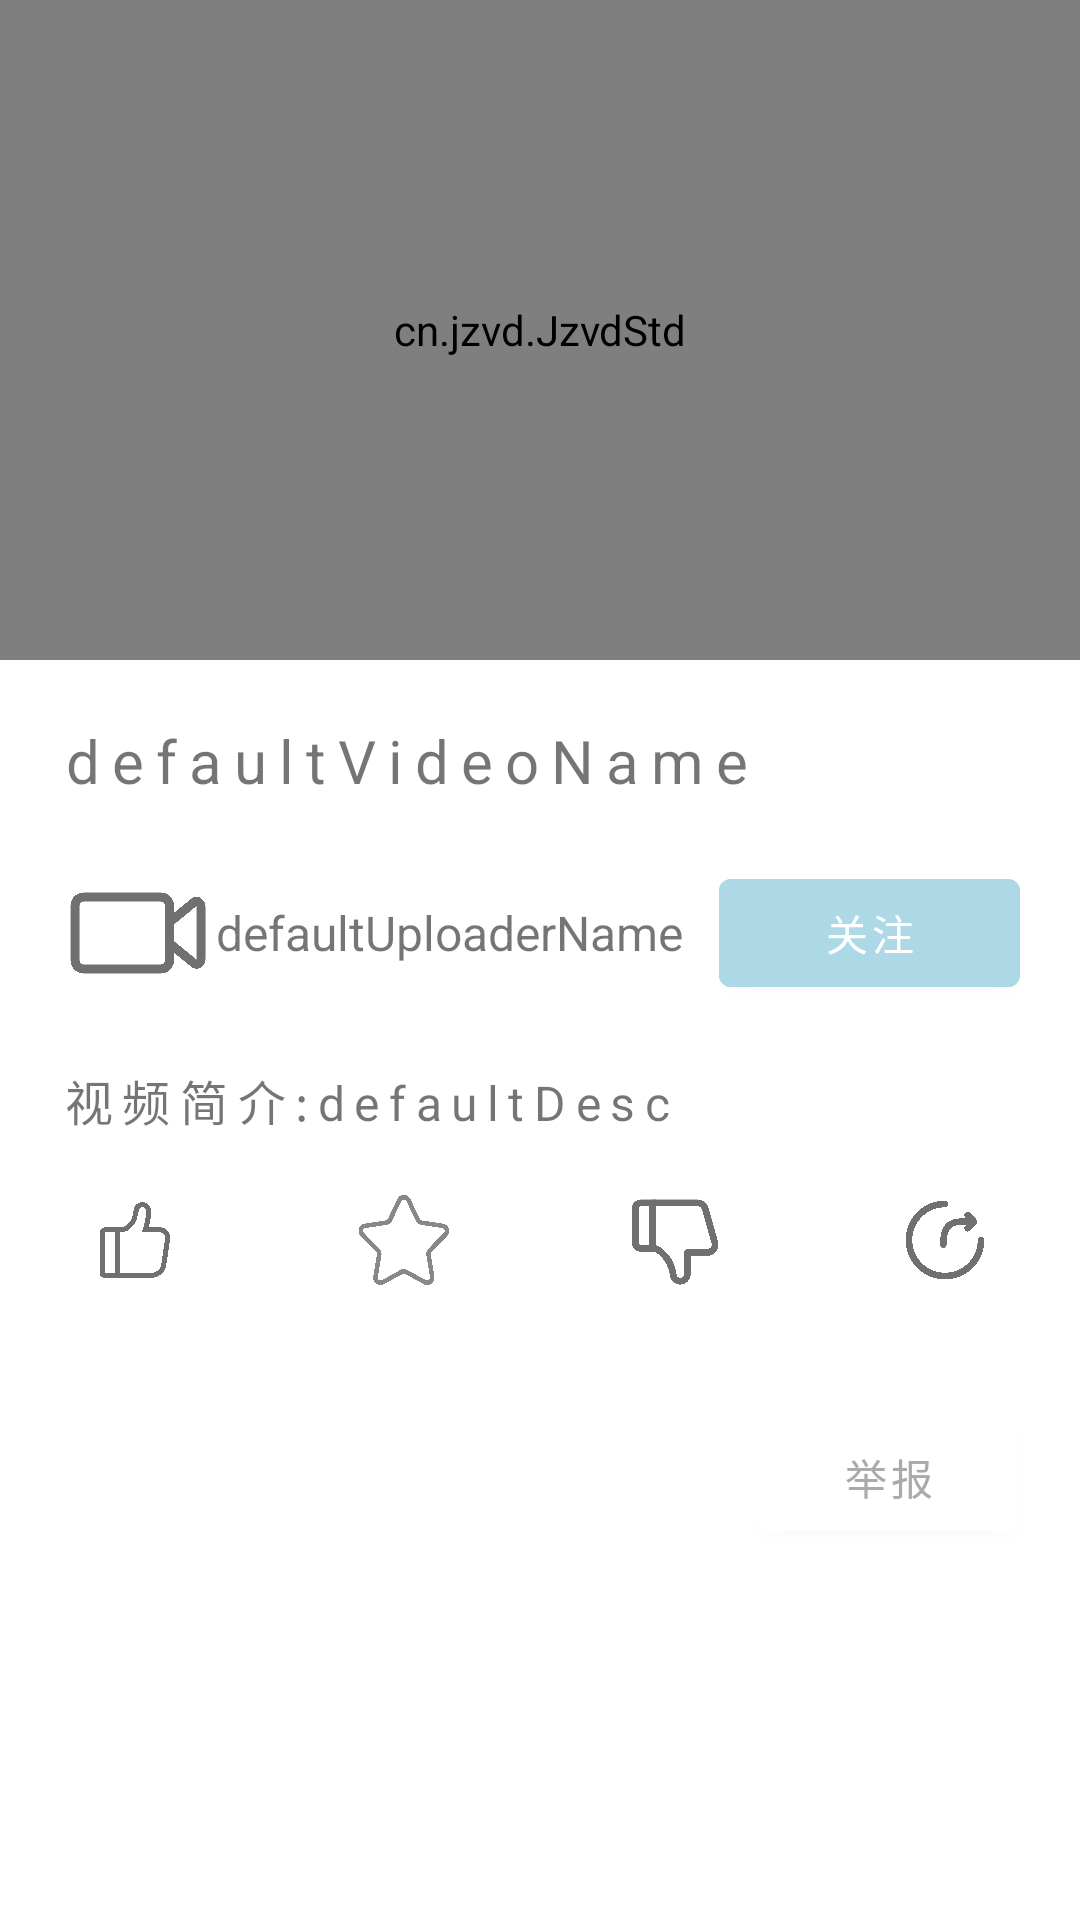

Where to tap for icons on this 1080*1920 app screen, as [x,y]:
dislike: [675,1242]
favorite: [404,1240]
like: [135,1240]
share: [945,1240]
